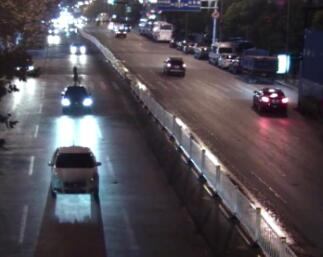bus: (149, 16, 174, 42)
car: (45, 144, 103, 199), (249, 84, 290, 114), (59, 82, 92, 112), (162, 53, 187, 76), (208, 40, 231, 64), (13, 57, 39, 74), (218, 48, 239, 67), (68, 40, 85, 56)
